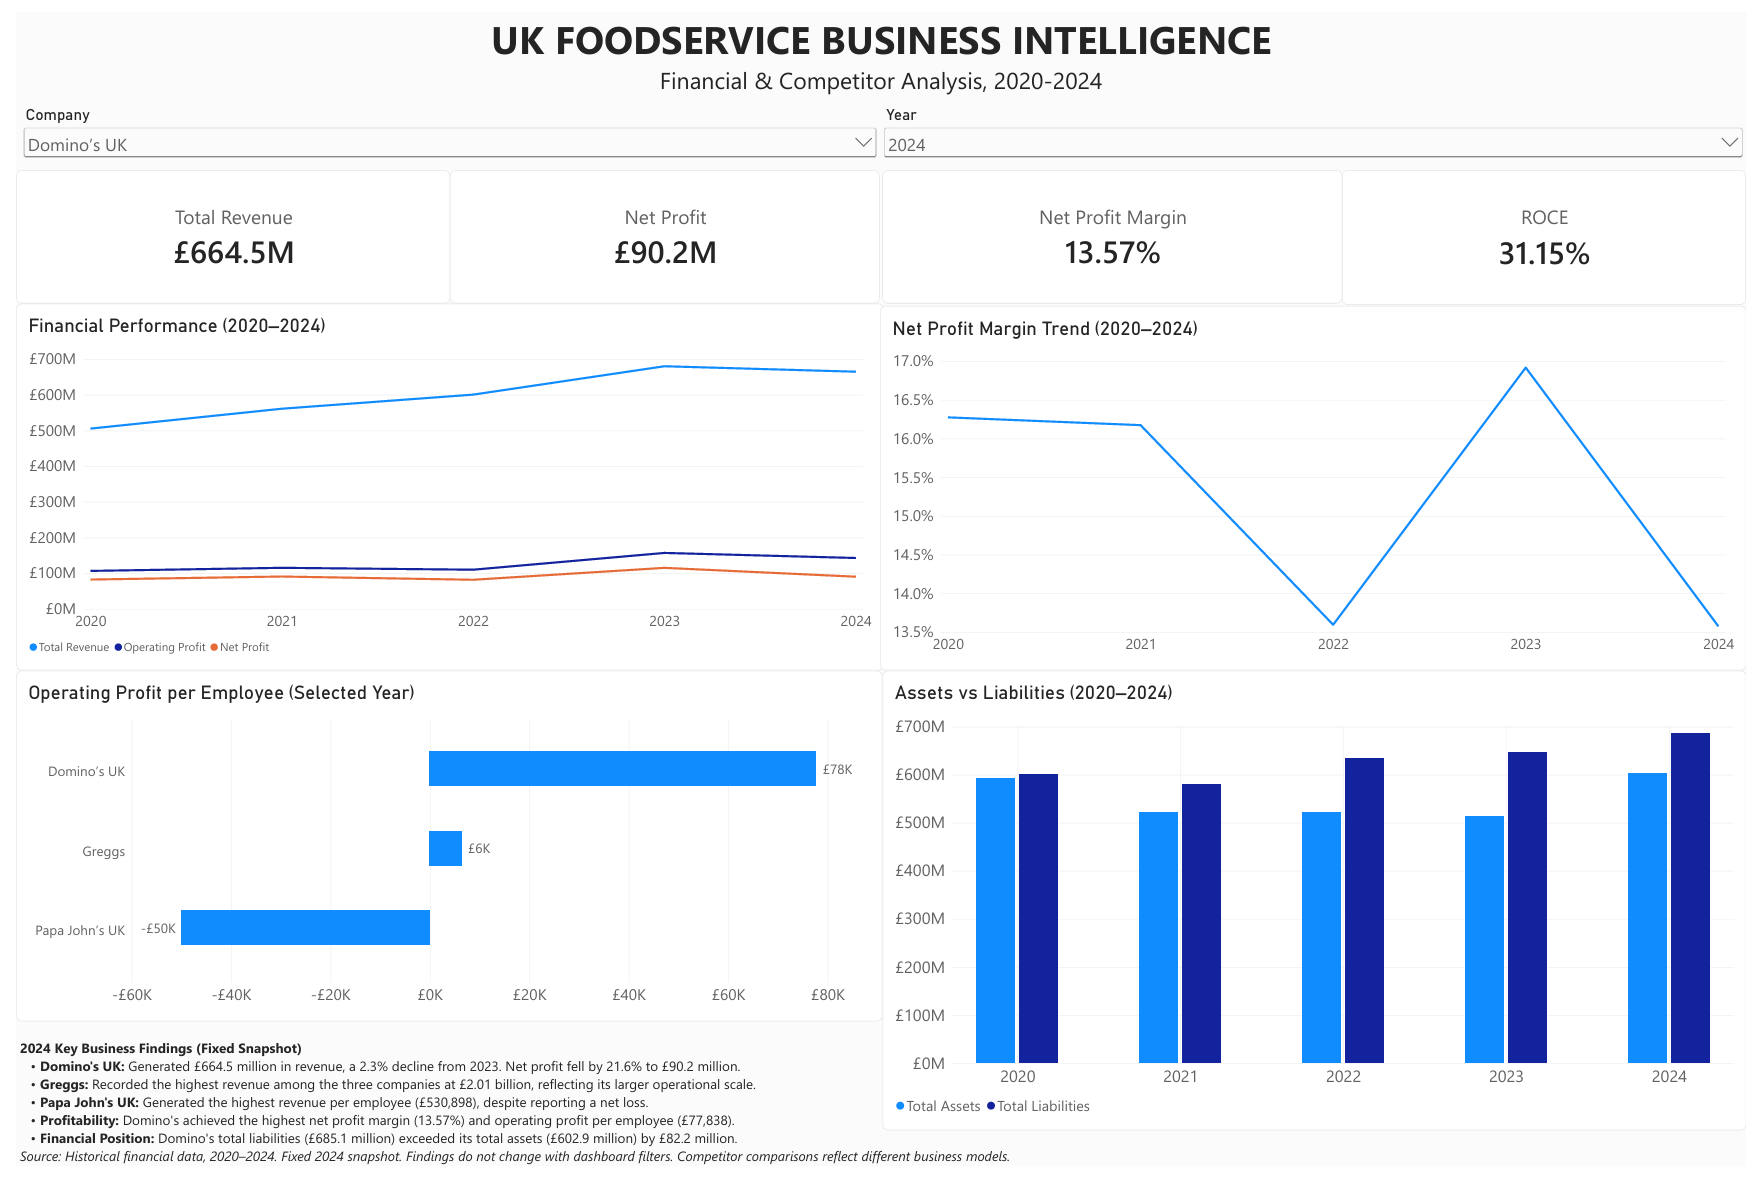

The page's visual inventory and layout, read from the dashboard file:
{"tool":"powerbi","page":{"name":"01 Executive Overview","canvas":[2400,1600],"ordinal":0},"visuals":[{"type":"textbox","box":[0,0,2400.5,128.6],"z":0},{"type":"cardVisual","fields":{"Data":["Financial_Data.Total Revenue"]},"box":[0,218.7,602.1,185.2],"z":1},{"type":"cardVisual","fields":{"Data":["Financial_Data.Net Profit"]},"box":[602.1,218.7,596.9,185.2],"z":2},{"type":"cardVisual","fields":{"Data":["Financial_Data.Net Profit Margin"]},"box":[1201.5,218.7,638.1,185.2],"z":3},{"type":"cardVisual","fields":{"Data":["Financial_Data.ROCE"]},"box":[1839.6,218.7,560.9,187.8],"z":4},{"type":"lineChart","title":"Financial Performance (2020–2024)","fields":{"Category":["Financial_Data.Year"],"Y":["Financial_Data.Total Revenue","Financial_Data.Operating Profit","Financial_Data.Net Profit"]},"box":[0,403.9,1204.1,509.4],"z":5},{"type":"lineChart","title":"Net Profit Margin Trend (2020–2024)","fields":{"Category":["Financial_Data.Year"],"Y":["Financial_Data.Net Profit Margin"]},"box":[1199,406.5,1201.5,506.9],"z":6},{"type":"slicer","fields":{"Values":["Financial_Data.Company"]},"box":[5.1,128.6,1193.8,90.1],"z":7},{"type":"slicer","fields":{"Values":["Financial_Data.Year"]},"box":[1199,128.6,1201.5,90.1],"z":8},{"type":"clusteredBarChart","title":"Operating Profit per Employee (Selected Year)","fields":{"Category":["Financial_Data.Company"],"Y":["Financial_Data.Operating Profit per Employee"]},"box":[0,913.4,1201.5,486.3],"z":9},{"type":"textbox","box":[5.1,1422.8,2395.4,177.5],"z":10},{"type":"clusteredColumnChart","title":"Assets vs Liabilities (2020–2024)","fields":{"Category":["Financial_Data.Year"],"Y":["Financial_Data.Total Assets","Financial_Data.Total Liabilities"]},"box":[1201.5,913.4,1199,638.1],"z":11}]}

Visuals, with their boxes in screenshot pixels (x1, y1, x2, y2), scaled from the page's 2400x1600 canvas onto the 1760x1182 screenshot:
textbox: (left=0, top=0, right=1759, bottom=95)
cardVisual - Financial_Data.Total Revenue: (left=0, top=162, right=442, bottom=298)
cardVisual - Financial_Data.Net Profit: (left=442, top=162, right=879, bottom=298)
cardVisual - Financial_Data.Net Profit Margin: (left=881, top=162, right=1349, bottom=298)
cardVisual - Financial_Data.ROCE: (left=1349, top=162, right=1759, bottom=300)
"Financial Performance (2020–2024)" lineChart: (left=0, top=298, right=883, bottom=675)
"Net Profit Margin Trend (2020–2024)" lineChart: (left=879, top=300, right=1759, bottom=675)
slicer - Financial_Data.Company: (left=4, top=95, right=879, bottom=162)
slicer - Financial_Data.Year: (left=879, top=95, right=1759, bottom=162)
"Operating Profit per Employee (Selected Year)" clusteredBarChart: (left=0, top=675, right=881, bottom=1034)
textbox: (left=4, top=1051, right=1759, bottom=1181)
"Assets vs Liabilities (2020–2024)" clusteredColumnChart: (left=881, top=675, right=1759, bottom=1146)
